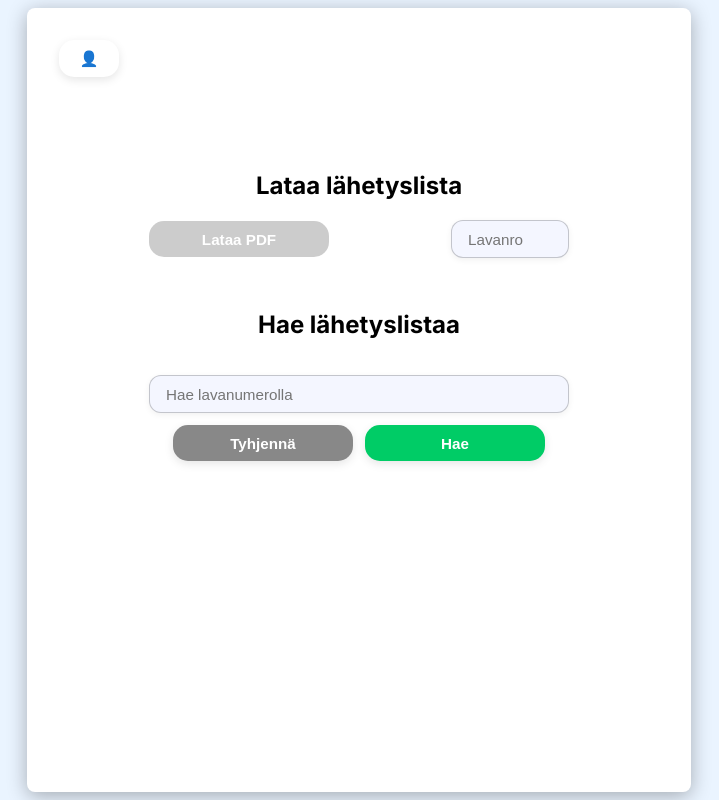
Test: Virheenkäsittely (Error Handling) › 1. Sivun latausvirheet › 1.2 Home-sivu latautuu vaikka API:sta ei saataisi dokumentteja
Expected: the element that starts with "Lataa lähetyslista" is shown, [59, 40, 659, 493]
# Vaihda admin-näkymään jotta tyhjän listan placeholder renderöityy
Click the button with class "user-change": (89, 59) [59, 40, 119, 77]
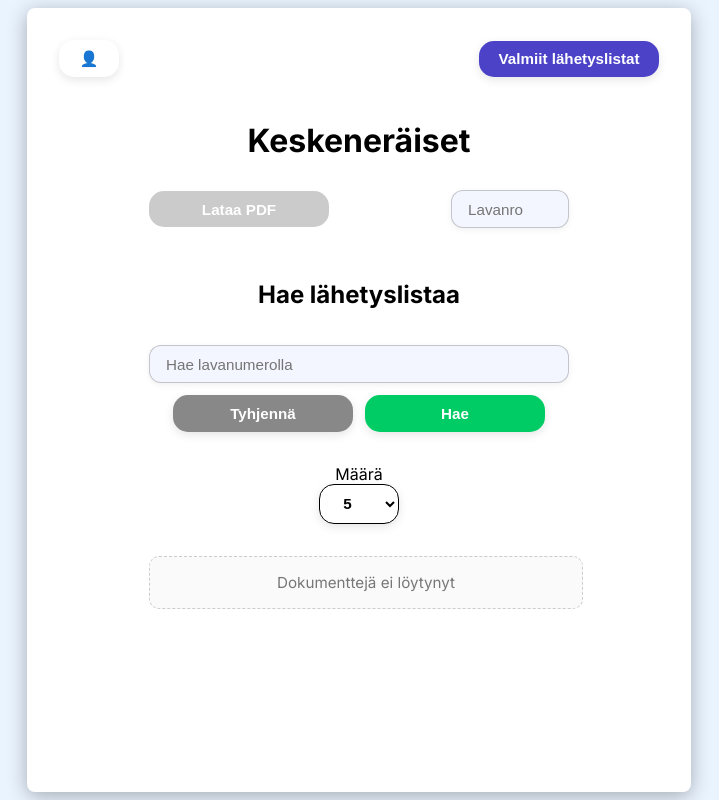
Expected: the element with class "no-documents-view" is shown, [149, 556, 583, 609]
